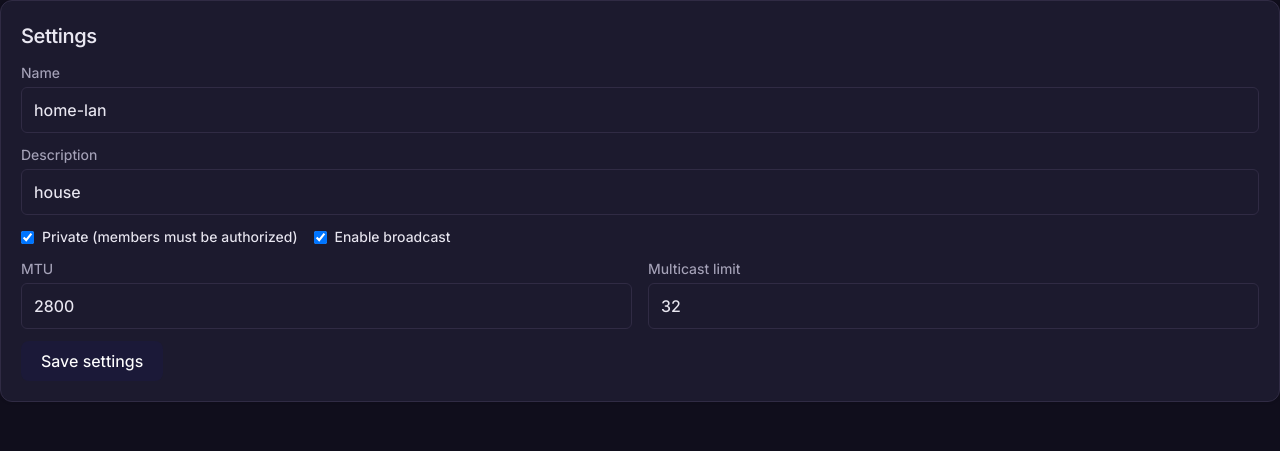
Test case: NetworkSettings › surfaces metaWarning as a non-blocking notice
Expected: the number field labelled "MTU" is shown, [21,283,632,329]
What coordinates should you click on to do the following:
click the button "Save settings"
I would click on:
 (92, 361)
Its box is [21,341,163,381].
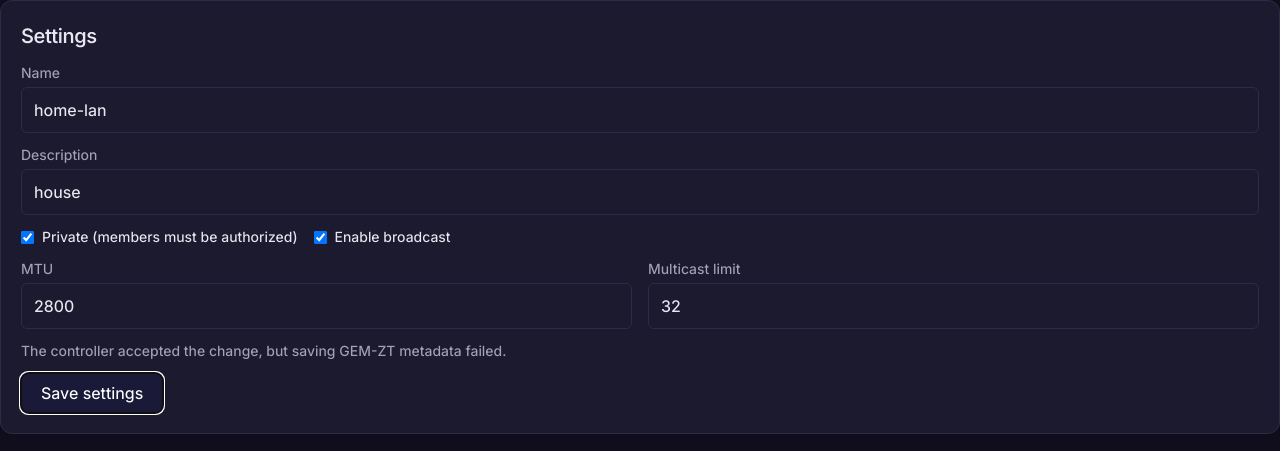
Now the text "metadata failed" is shown, box [21,342,506,359]
